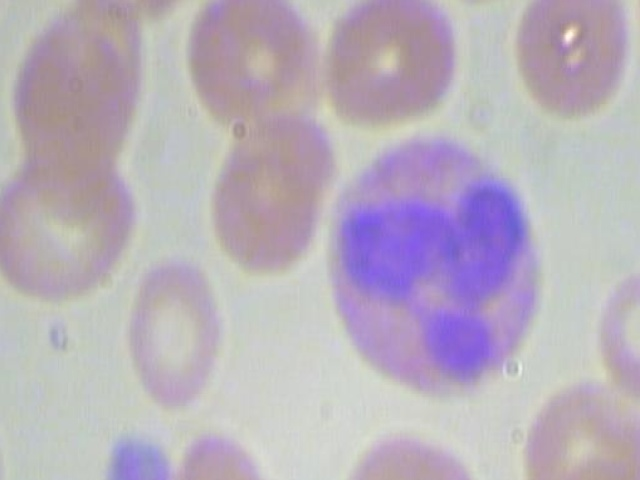Platelets: (90, 429, 184, 480)
RBC: (0, 143, 148, 310), (310, 0, 466, 133), (180, 0, 322, 139), (110, 251, 229, 416), (512, 0, 640, 121), (325, 414, 491, 480), (594, 251, 640, 411)
WBC: (320, 119, 556, 404)
